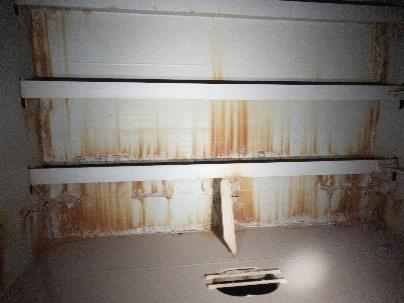corrosion: (325, 172, 400, 225), (60, 184, 129, 233), (17, 5, 61, 76), (206, 102, 253, 159), (126, 183, 174, 233), (272, 182, 319, 226), (26, 99, 59, 160), (101, 136, 177, 158), (27, 191, 58, 243), (233, 178, 261, 224), (360, 112, 390, 154), (259, 119, 294, 151), (371, 26, 391, 81), (203, 41, 229, 76), (81, 124, 101, 154)
